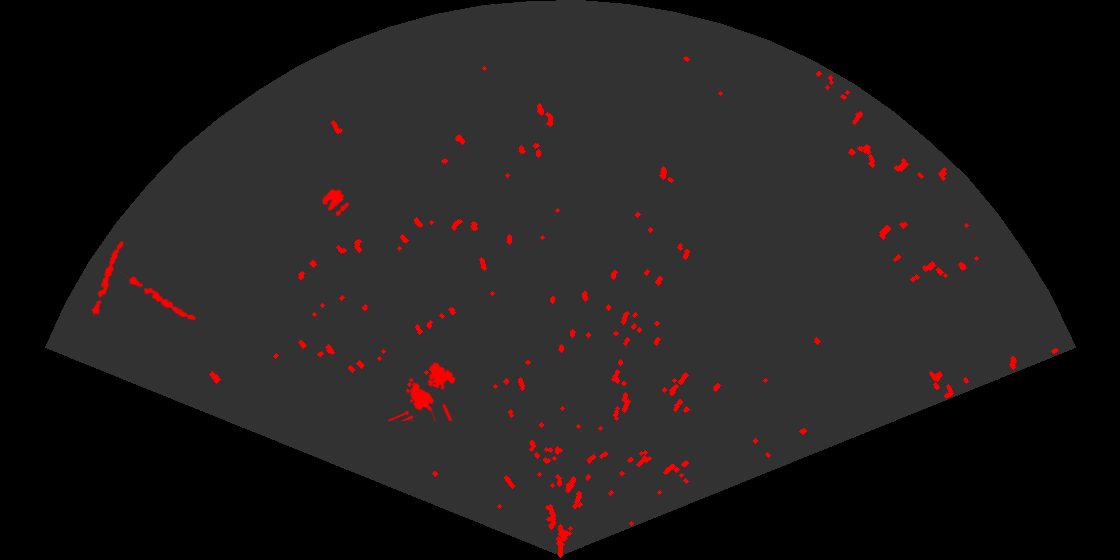ball: (321, 188, 351, 218)
cage: (388, 361, 458, 421)
chain: (119, 270, 198, 322), (90, 239, 125, 317)
